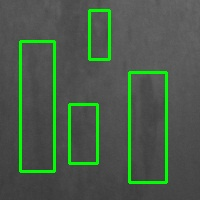inclusion: (20, 41, 54, 171), (129, 72, 166, 182), (69, 104, 97, 163), (89, 10, 109, 59)
